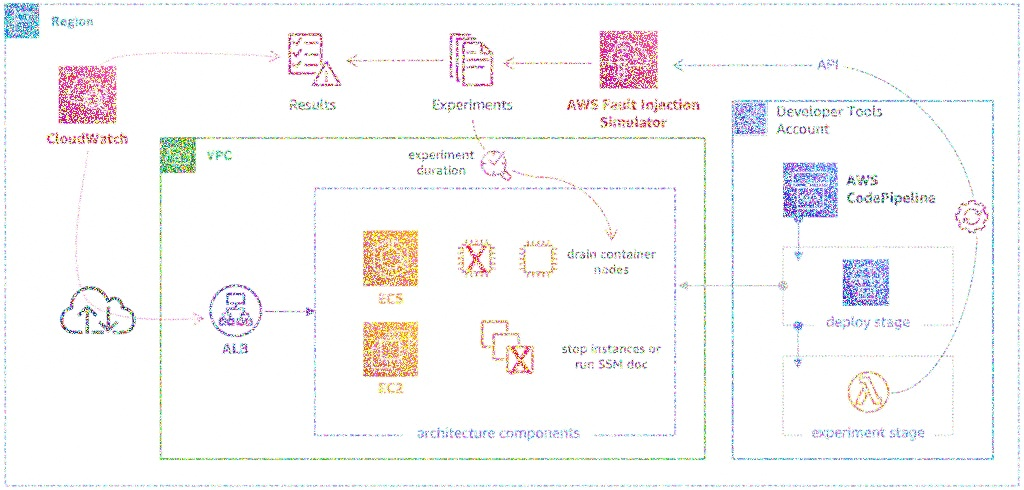ALB: (202, 277, 267, 339)
Automated Tests: (729, 99, 771, 138)
Cloud Watch: (57, 63, 117, 123)
CodePipeline: (779, 160, 838, 222)
Deploy Stage: (839, 257, 891, 306)
EC2: (477, 317, 538, 378), (362, 321, 417, 376)
Elastic Container Service: (363, 228, 420, 289)
Fault Injection Simulator: (594, 27, 660, 91)
Internet: (53, 280, 140, 339)
Lambda: (838, 367, 902, 418)
Region: (0, 0, 44, 40)
